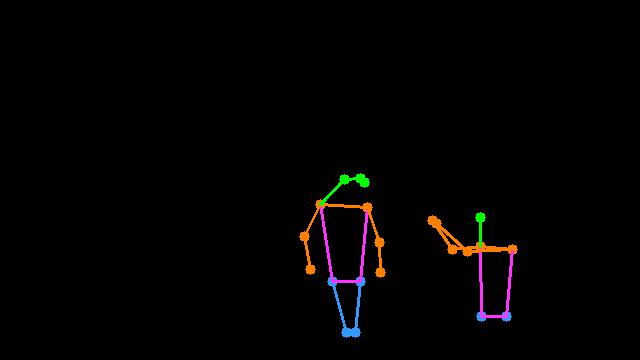normal: (286, 160, 532, 350)
